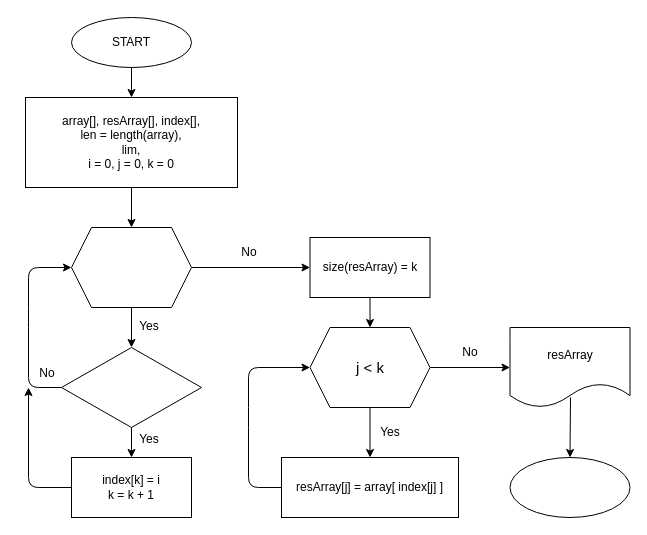
Some shapes in this 647 by 535 pixel diagram are drawn without their labels. The box of each missing label's shape, as (x1, y1, x2, y2) in pixels:
END: (509, 456, 630, 518)
i < len: (70, 226, 192, 308)
size(array[i]) <= lim: (60, 346, 202, 428)
